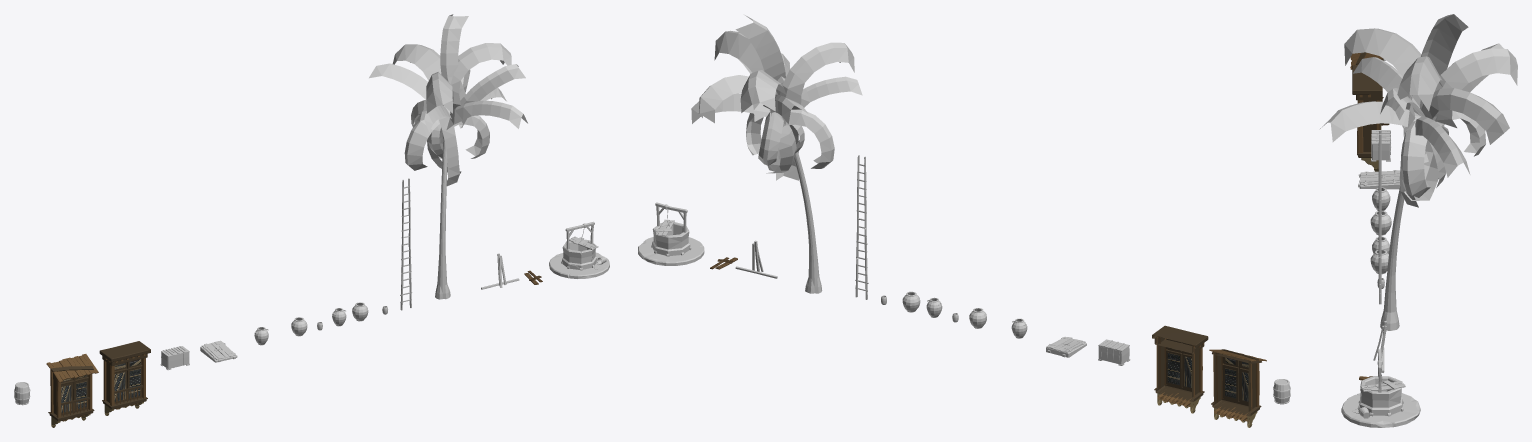
The model's file is oriental_houses_props.dae.
The picture shows the model from 3 angles, left to right: view 1: azimuth 30°, elevation 25°; view 2: azimuth 150°, elevation 25°; view 3: azimuth 270°, elevation 25°; orthographic projection. The views are drawn at different scales.
Visible parts, largest first — view 1: Mesh_Object_15, Mesh_Object_5, Mesh_Object_4, Mesh_Object_2, Mesh_Object_14, Mesh_Object_6; view 2: Mesh_Object_15, Mesh_Object_5, Mesh_Object_4, Mesh_Object_2, Mesh_Object_14, Mesh_Object_6; view 3: Mesh_Object_15, Mesh_Object_2, Mesh_Object_5, Mesh_Object_7, Mesh_Object_14, Mesh_Object_6, Mesh_Object_9, Mesh_Object_12, Mesh_Object_8, Mesh_Object_4, Mesh_Object_16.
Boxes of the visible parts, <box> form: Mesh_Object_15: <box>369,14,527,299</box>; Mesh_Object_5: <box>99,341,150,415</box>; Mesh_Object_4: <box>46,354,98,427</box>; Mesh_Object_2: <box>549,221,609,278</box>; Mesh_Object_14: <box>400,178,412,310</box>; Mesh_Object_6: <box>160,346,189,370</box>; Mesh_Object_15: <box>691,15,862,293</box>; Mesh_Object_5: <box>1152,325,1208,413</box>; Mesh_Object_4: <box>1209,349,1266,427</box>; Mesh_Object_2: <box>638,202,704,265</box>; Mesh_Object_14: <box>855,155,868,299</box>; Mesh_Object_6: <box>1098,339,1130,365</box>; Mesh_Object_15: <box>1320,14,1517,330</box>; Mesh_Object_2: <box>1341,349,1420,427</box>; Mesh_Object_5: <box>1352,65,1382,171</box>; Mesh_Object_7: <box>1358,170,1400,189</box>; Mesh_Object_14: <box>1378,130,1381,304</box>; Mesh_Object_6: <box>1371,130,1390,161</box>; Mesh_Object_9: <box>1370,211,1391,235</box>; Mesh_Object_12: <box>1370,249,1388,274</box>; Mesh_Object_8: <box>1372,187,1390,210</box>; Mesh_Object_4: <box>1350,52,1389,129</box>; Mesh_Object_16: <box>1373,321,1386,372</box>.
Size of the model in its own units: 1085 by 505 by 243.
